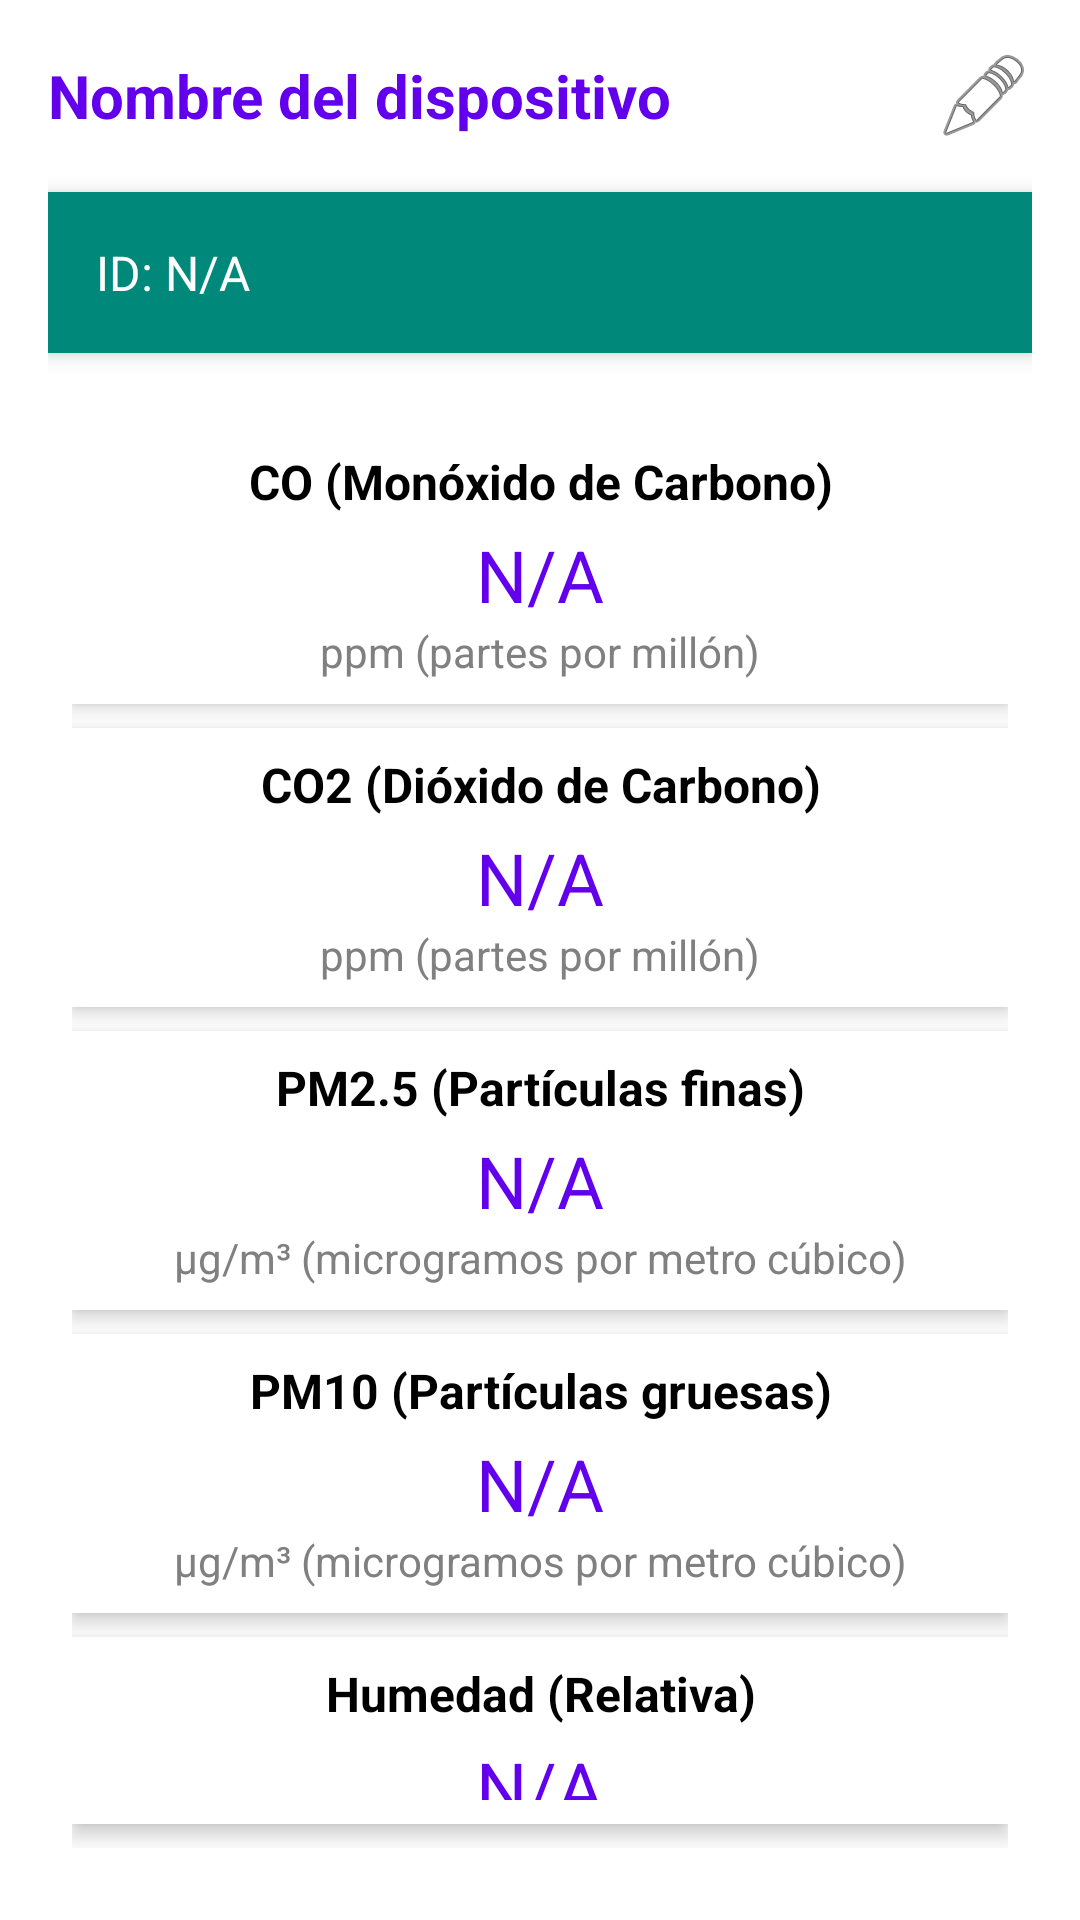

Screen size 1080x1920. Icon name, then its center in pixels as point (x, y):
Editar nombre: point (983, 95)
